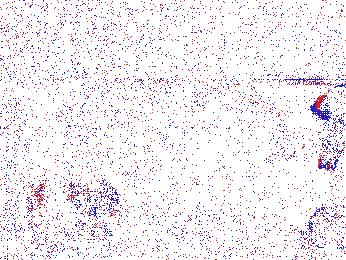flame jellyfish: (312, 84, 346, 171), (62, 179, 120, 220), (300, 204, 346, 248)
